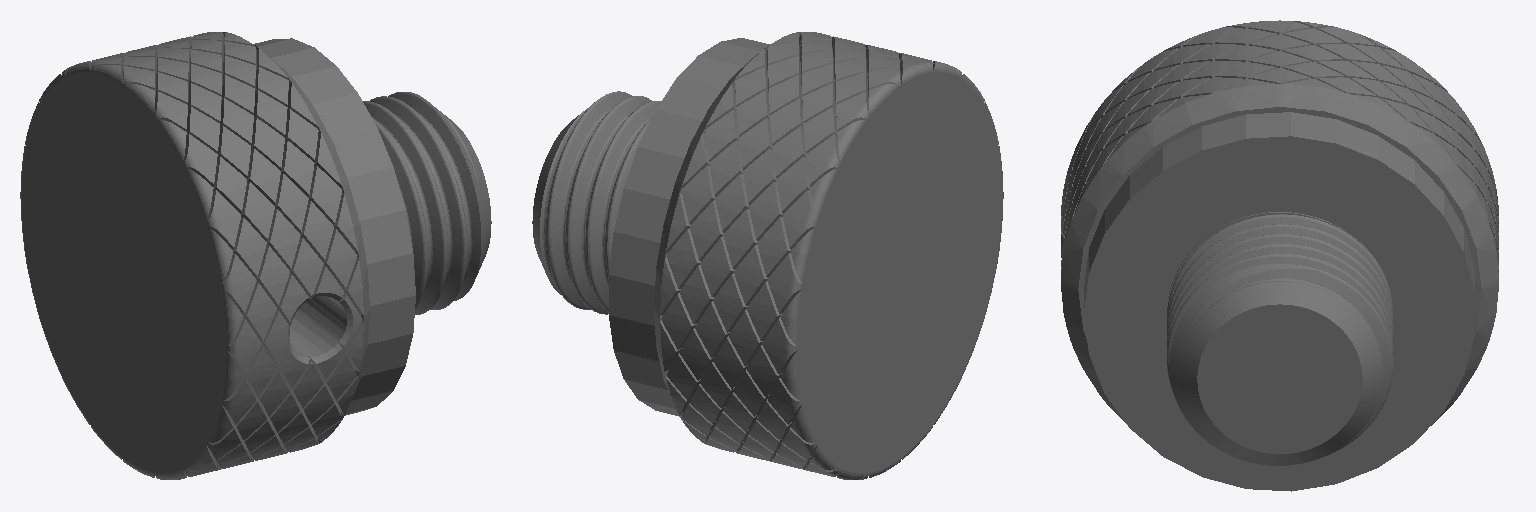
URDF robot description (plug):
<?xml version="0.0" ?>
<robot name="plug">
  <link name="plug_link">
    <inertial>
      <mass value="0.05"/>
      <inertia ixx="0.1" ixy="0.0" ixz="0.0" iyy="0.1" iyz="0.0" izz="0.1"/>
    </inertial>
    <visual>
      <origin rpy="0 0 0" xyz="0 0 0"/>
      <geometry>
        <mesh filename="plug.stl"/>
      </geometry>
      <material name="white">
        <color rgba="0.5 0.5 0.5 1"/>
      </material>
    </visual>
    <collision>
      <origin rpy="0 0 0" xyz="0 0 0"/>
      <geometry>
    	 	<mesh filename="plug.stl"/>
      </geometry>
    </collision>
  </link>
</robot>

--- Render facts (derived) ---
Views: 3 orthographic renders of the robot side by side, from view 1: azimuth 30°, elevation 25°; view 2: azimuth 150°, elevation 25°; view 3: azimuth 270°, elevation 25°.
Model plug with 1 links and 0 joints (none), rooted at plug_link, posed every joint at zero.
Visible links, largest first — view 1: plug_link; view 2: plug_link; view 3: plug_link.
Boxes of the visible links, x1,y1,x2,y2 form: plug_link: (20, 32, 491, 479); plug_link: (532, 32, 1003, 479); plug_link: (1061, 20, 1498, 491).
Bounding box of the posed robot: 0.0222 × 0.0252 × 0.0252 m (x, y, z).
Meshes: 1 distinct files referenced, 1 mesh visuals loaded (1 binary STL).